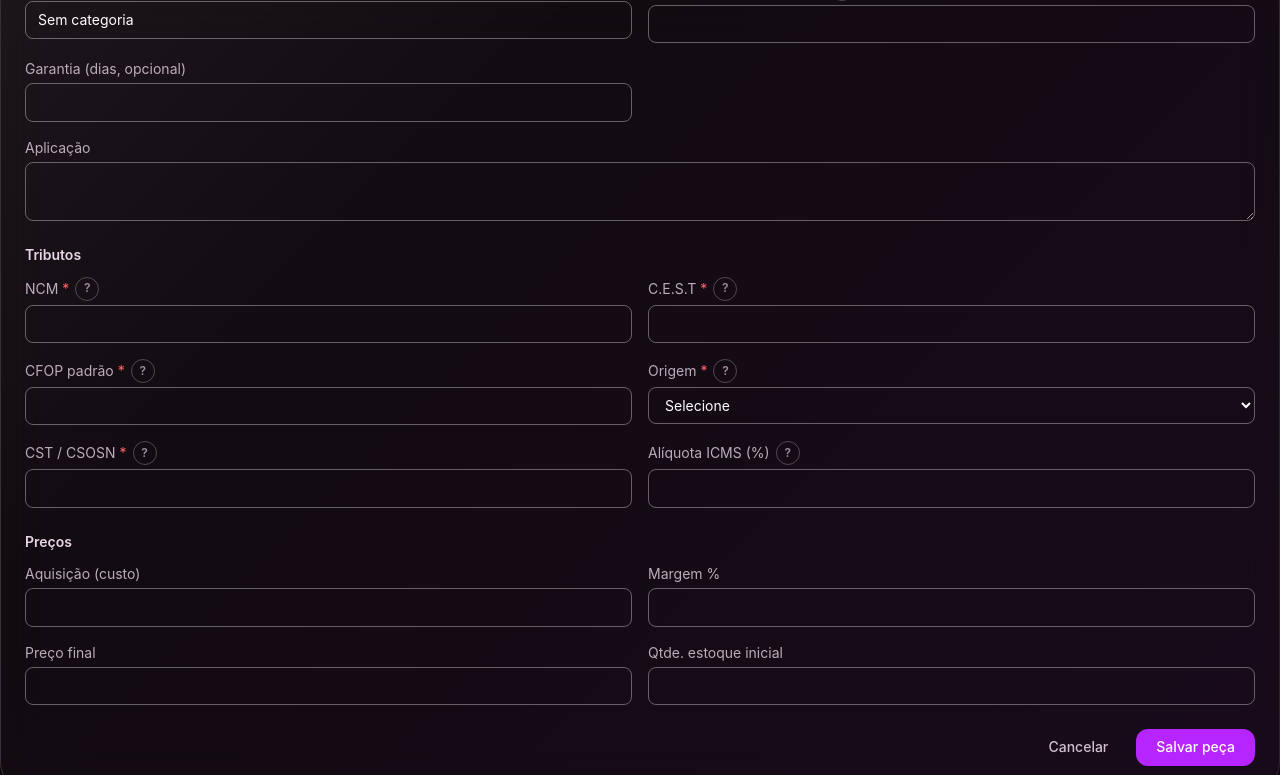
it: PecaForm — validação › não salva sem descrição
(page scrolled)
Click the button "Salvar peça": coordinates (1196, 747) [1136, 729, 1255, 766]
(page scrolled)
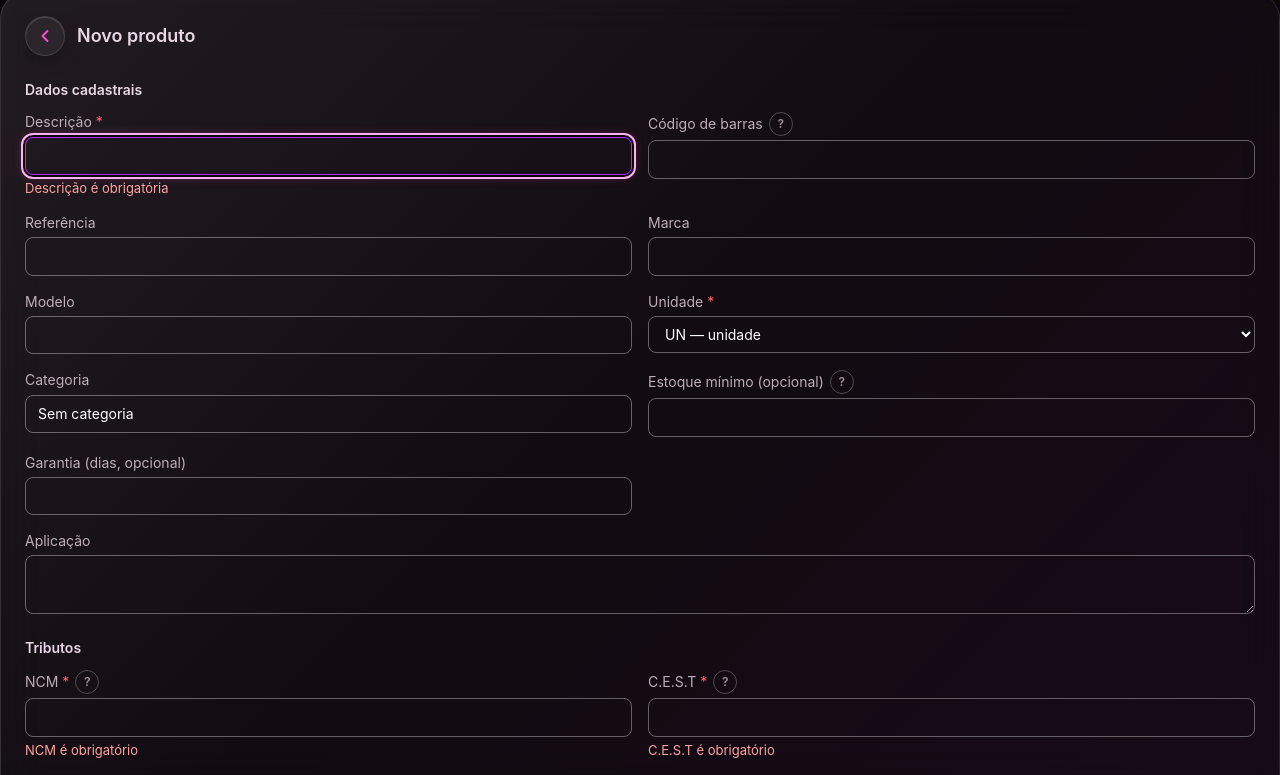
Result: the text "Descrição é obrigatória" is shown at [25, 180, 168, 196]
